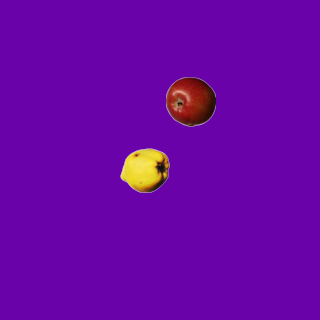Apple Braeburn: (165, 76, 215, 126)
Quince: (119, 145, 169, 195)
